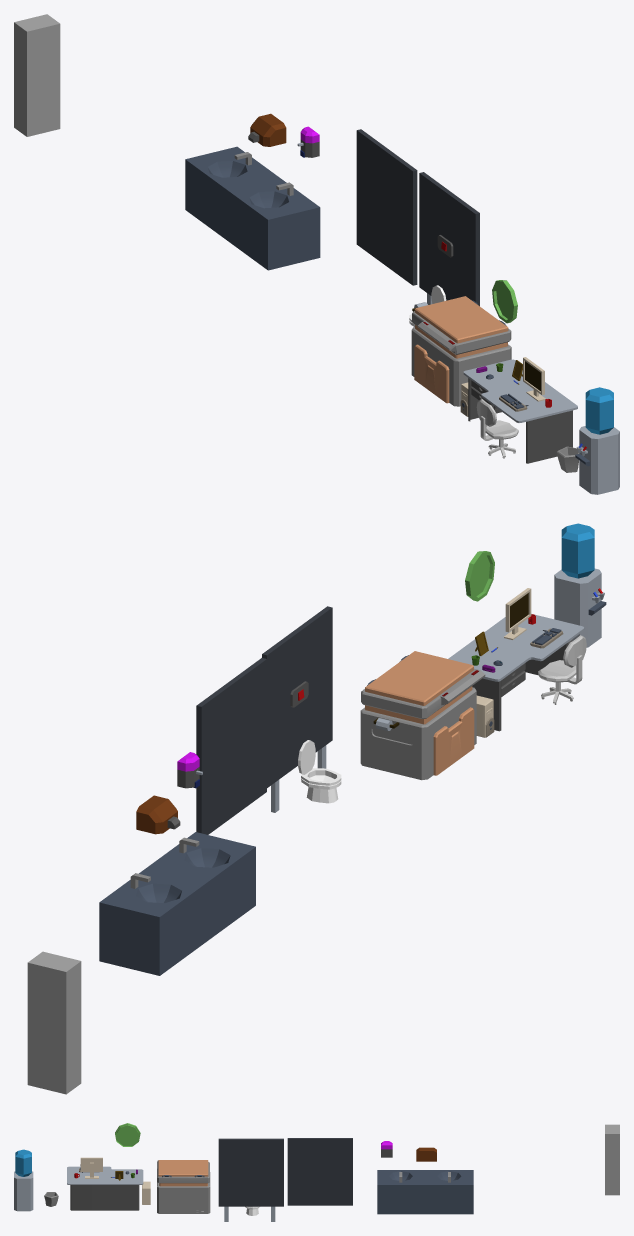
File: Elementos Varios.fbx
The picture shows the model from 3 angles, top to bottom: view 1: azimuth 30°, elevation 25°; view 2: azimuth 150°, elevation 25°; view 3: azimuth 270°, elevation 25°; orthographic projection. The views are drawn at different scales.
Parts seen in each view (by area): view 1: Lavamanos, Impresora, Puerta_Banio, Pared_Banio, Persona, Escritorio, Bebedero, Silla, Secador_de_manos, Reloj, Monitor; view 2: Lavamanos, Impresora, Puerta_Banio, Pared_Banio, Persona, Escritorio, Bebedero, Silla, Inodoro, Secador_de_manos, Reloj, Monitor (+1 smaller); view 3: Pared_Banio, Puerta_Banio, Lavamanos, Impresora, Escritorio, Bebedero, Persona, Reloj, Monitor, Secador_de_manos, CPU, Jabonera (+1 smaller).
Part boxes in pixels (x1,y1,x2,y2): Lavamanos: [185, 146, 320, 270]; Impresora: [411, 296, 511, 406]; Puerta_Banio: [356, 129, 417, 285]; Pared_Banio: [419, 172, 479, 306]; Persona: [14, 14, 60, 136]; Escritorio: [463, 359, 577, 463]; Bebedero: [575, 387, 619, 494]; Silla: [476, 399, 518, 458]; Secador_de_manos: [248, 113, 286, 146]; Reloj: [492, 280, 517, 323]; Monitor: [523, 357, 545, 401]; Lavamanos: [99, 832, 255, 975]; Impresora: [360, 651, 485, 780]; Puerta_Banio: [196, 658, 266, 834]; Pared_Banio: [262, 606, 332, 812]; Persona: [27, 951, 81, 1094]; Escritorio: [448, 614, 584, 731]; Bebedero: [554, 523, 606, 647]; Silla: [538, 635, 586, 704]; Inodoro: [298, 740, 341, 803]; Secador_de_manos: [136, 795, 180, 834]; Reloj: [465, 551, 494, 601]; Monitor: [504, 588, 531, 639]; Pared_Banio: [218, 1138, 283, 1221]; Puerta_Banio: [287, 1138, 352, 1205]; Lavamanos: [377, 1170, 473, 1214]; Impresora: [157, 1160, 210, 1213]; Escritorio: [67, 1166, 143, 1210]; Bebedero: [14, 1149, 33, 1211]; Persona: [605, 1124, 619, 1195]; Reloj: [115, 1123, 140, 1146]; Monitor: [80, 1157, 102, 1178]; Secador_de_manos: [416, 1147, 436, 1161]; CPU: [142, 1181, 150, 1204]; Jabonera: [381, 1141, 392, 1157].
Size of the model in its own units: 2.1 by 2.38 by 15.7.
